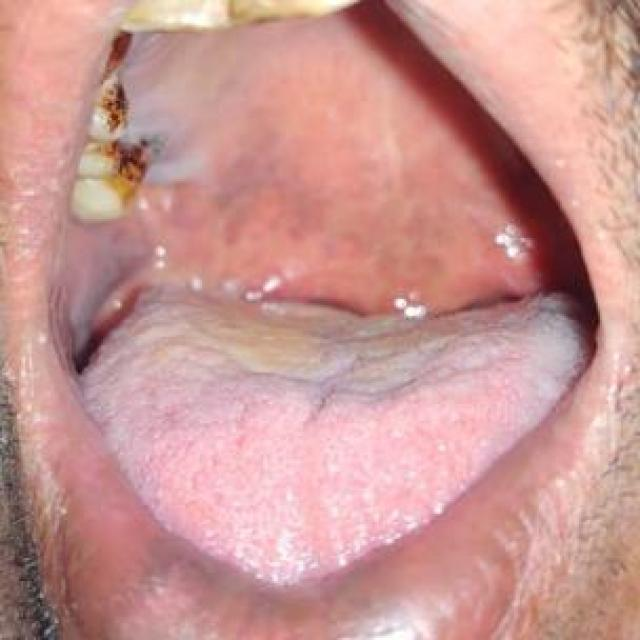leukoplakia-detection: (130, 49, 207, 186), (72, 225, 143, 354)
processing_area: (66, 28, 538, 364), (82, 285, 592, 583)
